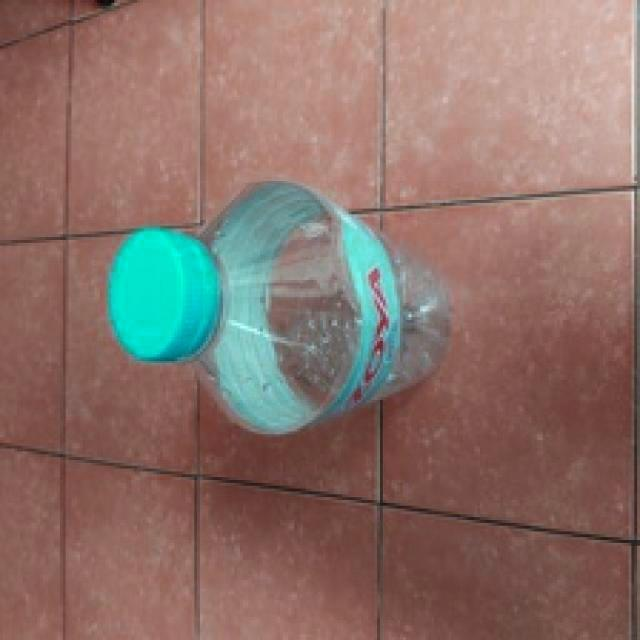bottle: (105, 181, 451, 438)
